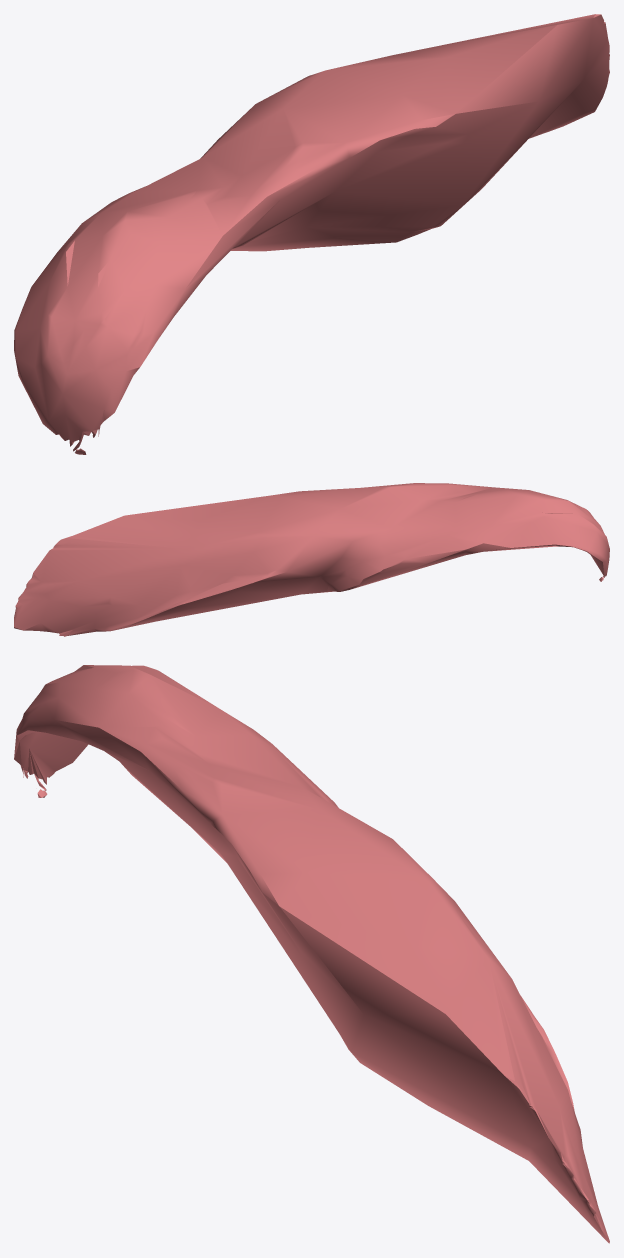
The picture shows the model from 3 angles, top to bottom: view 1: azimuth 30°, elevation 25°; view 2: azimuth 150°, elevation 25°; view 3: azimuth 270°, elevation 25°; orthographic projection. The views are drawn at different scales.
Visible parts, largest first — view 1: FJ1506; view 2: FJ1506; view 3: FJ1506.
Part boxes in pixels (bbox=[...]): FJ1506: bbox=[14, 14, 609, 454]; FJ1506: bbox=[14, 483, 609, 636]; FJ1506: bbox=[14, 665, 609, 1243].
Size of the model in its own units: 0.1239 by 0.0348 by 0.0785.
